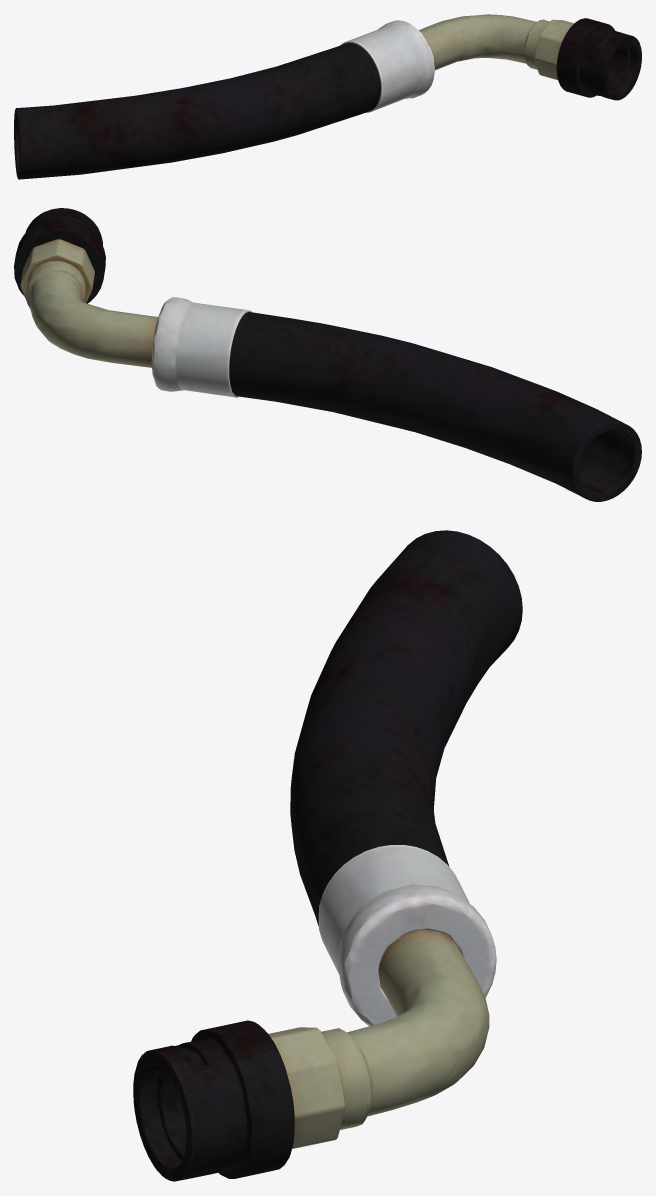
File: item_hydraulic_hose.glb
3 views of the same model, one above another, from view 1: azimuth 30°, elevation 25°; view 2: azimuth 150°, elevation 25°; view 3: azimuth 270°, elevation 25° (orthographic). The views are drawn at different scales.
Parts seen in each view (by area): view 1: item_hydraulic_hose; view 2: item_hydraulic_hose; view 3: item_hydraulic_hose.
Boxes of the visible parts, bbox=[...] form: item_hydraulic_hose: bbox=[14, 14, 641, 179]; item_hydraulic_hose: bbox=[14, 208, 641, 501]; item_hydraulic_hose: bbox=[133, 530, 522, 1181].
Bounding box in the file's own units: 0.3678 × 0.0446 × 0.1086.
2 materials, 2 textured.
